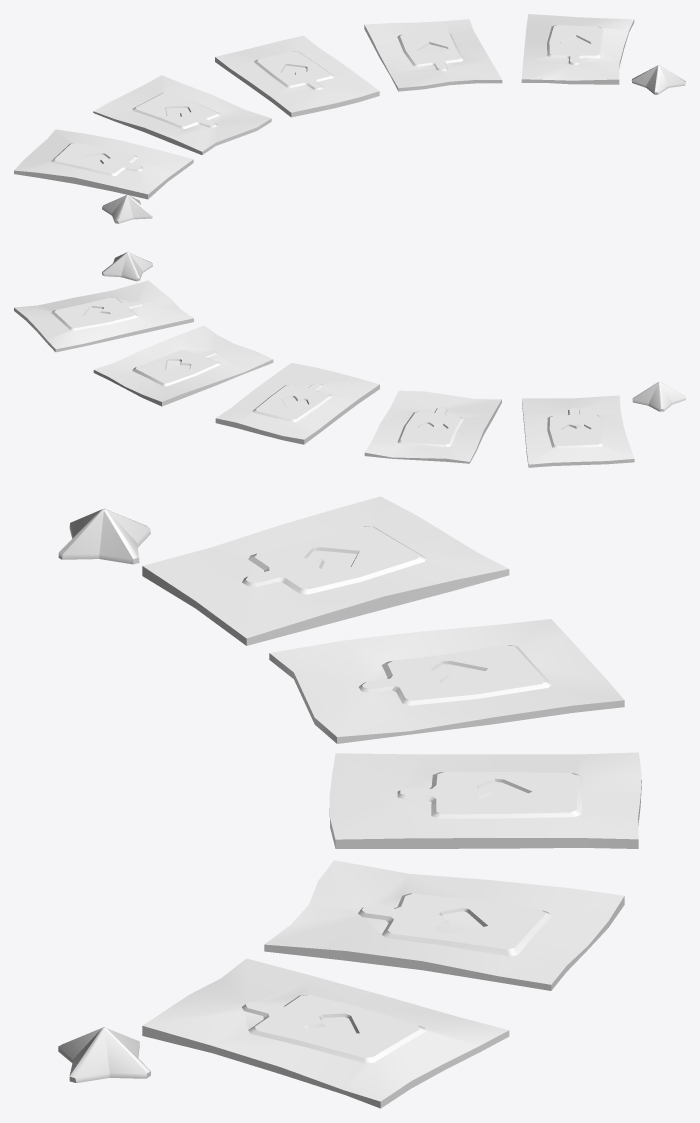
File: Prop_FortuneCandleFlags.glb
The picture shows the model from 3 angles, top to bottom: view 1: azimuth 30°, elevation 25°; view 2: azimuth 150°, elevation 25°; view 3: azimuth 270°, elevation 25°; orthographic projection. The views are drawn at different scales.
Parts seen in each view (by area): view 1: Prop_FortuneCandleFlags; view 2: Prop_FortuneCandleFlags; view 3: Prop_FortuneCandleFlags.
Part boxes in pixels (x1,y1,x2,y2): Prop_FortuneCandleFlags: (14, 14, 685, 223); Prop_FortuneCandleFlags: (14, 252, 685, 467); Prop_FortuneCandleFlags: (58, 496, 641, 1108).
Bounding box in the file's own units: 20.3 × 0.6074 × 8.27.
1 material, 1 textured.
